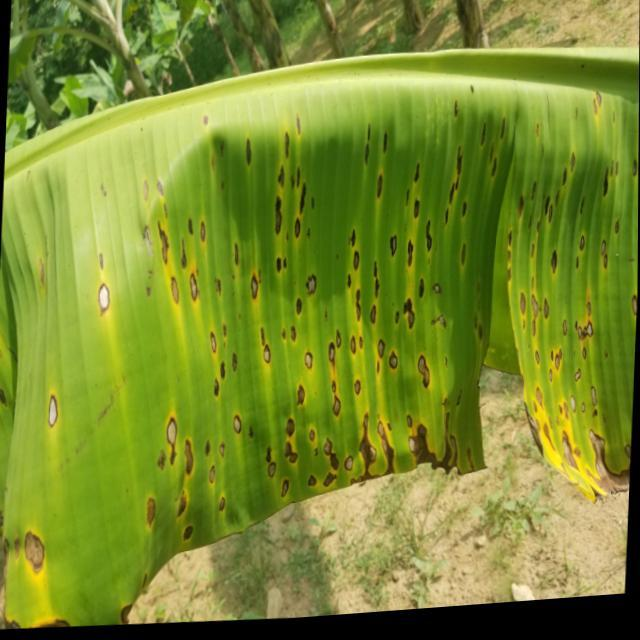Early_rust: (0, 81, 619, 618)
